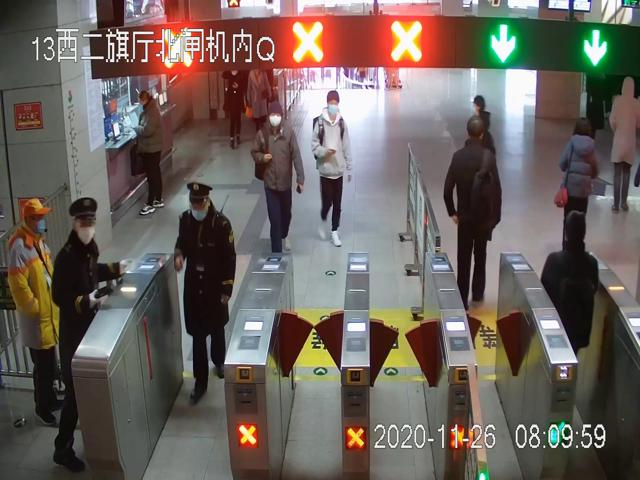person: (175, 180, 237, 402), (10, 198, 61, 426), (445, 115, 502, 308), (252, 100, 307, 255), (313, 88, 352, 248), (130, 89, 166, 219)
